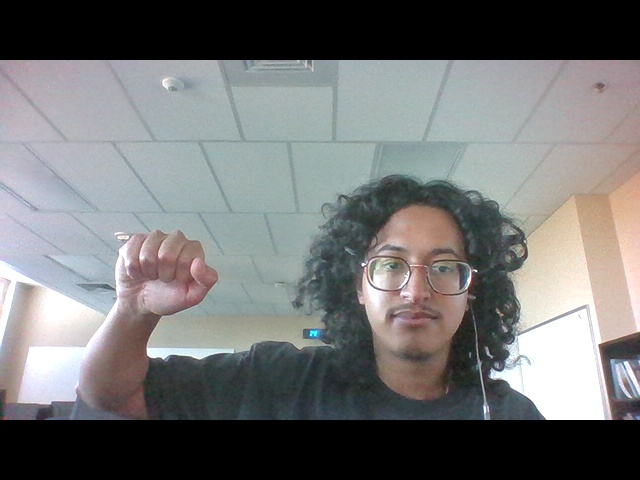yes: (105, 227, 233, 328)
